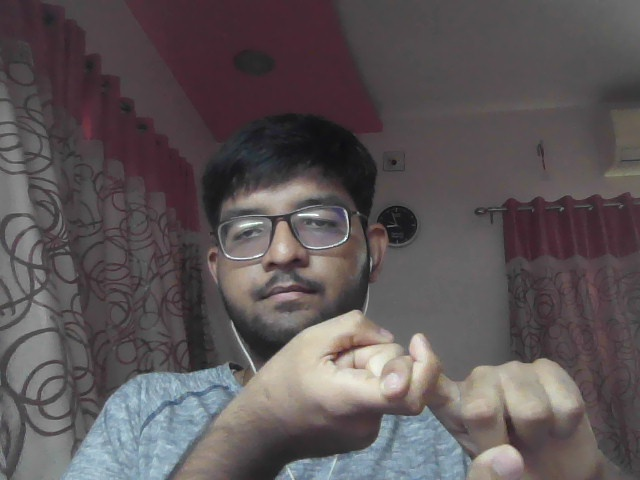મિત્ર: (239, 306, 612, 480)
